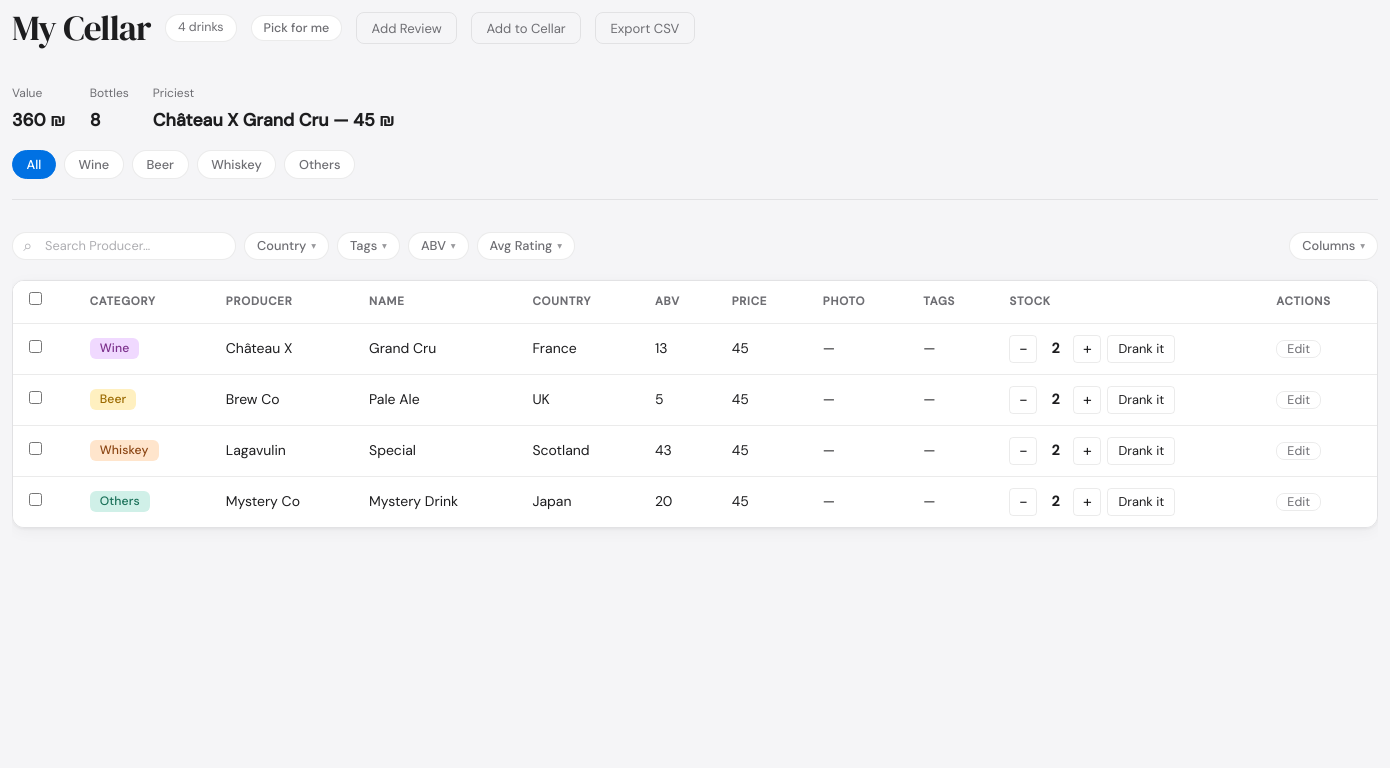
Test case: country filter options rescope to the selected category
Check: the text "Grand Cru" is shown, box 353,323 -> 516,374
Click the button "Wine" at coordinates (94, 164), box 64,150 -> 124,179
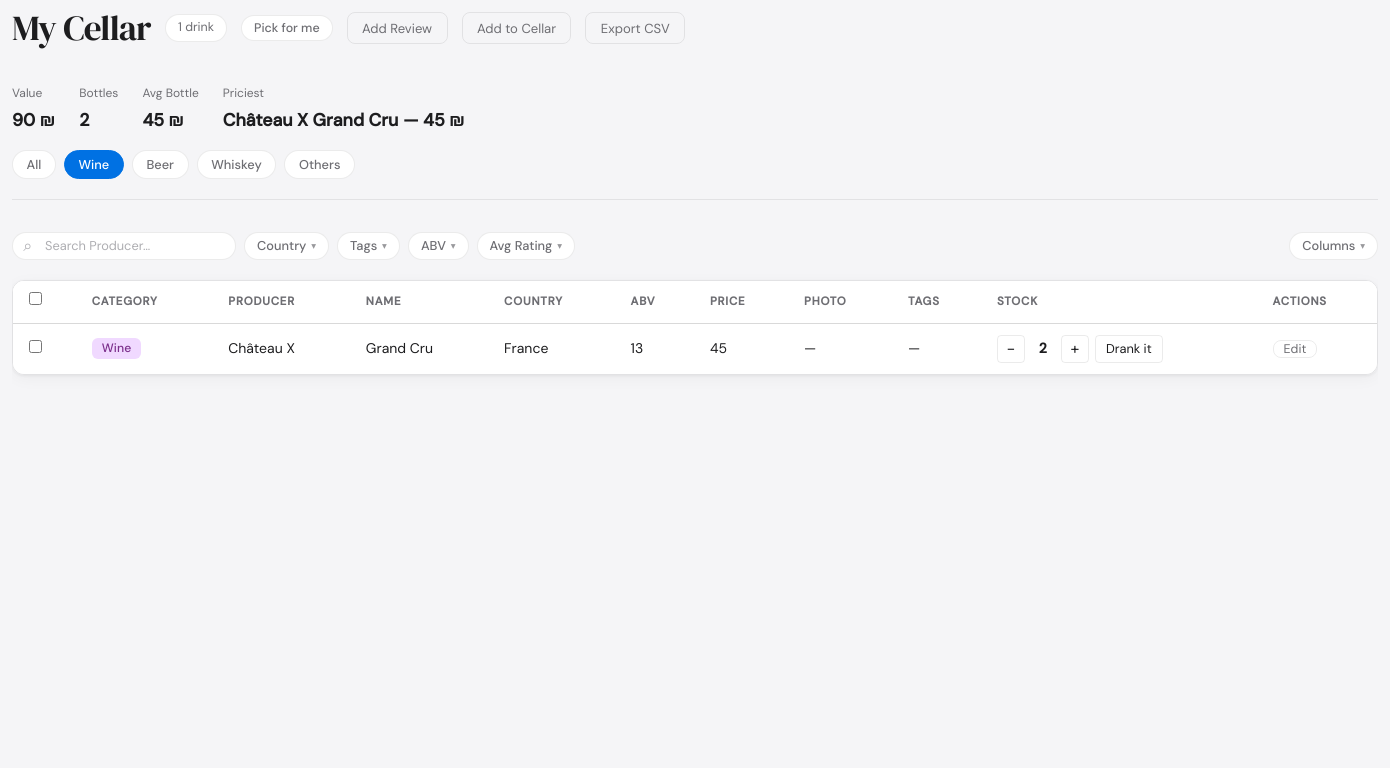
Click the button with test id "filter-dropdown-country" at coordinates (286, 246), box 244,232 -> 329,260
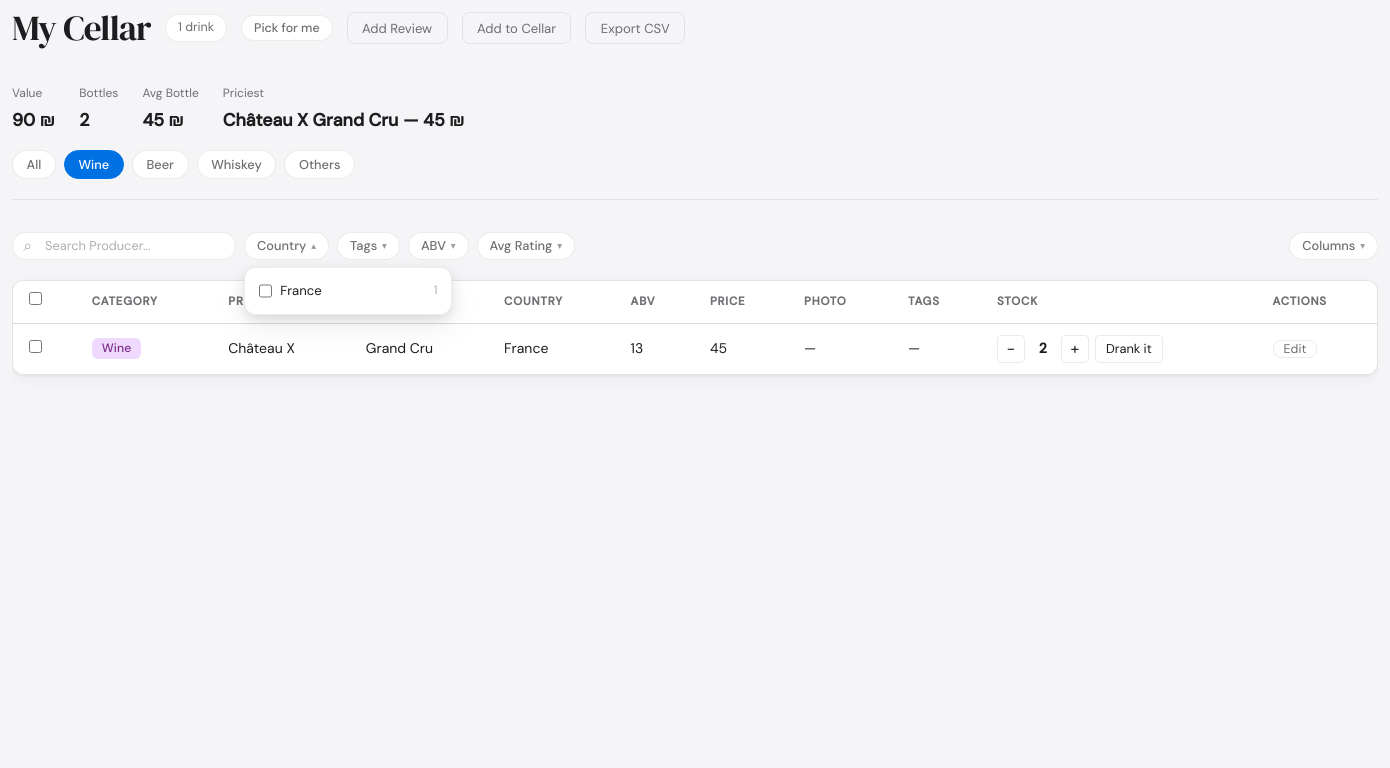
Check: the text "UK" is not shown
Check: the checkbox labelled "France 1" is shown, box 259,284 -> 272,298
